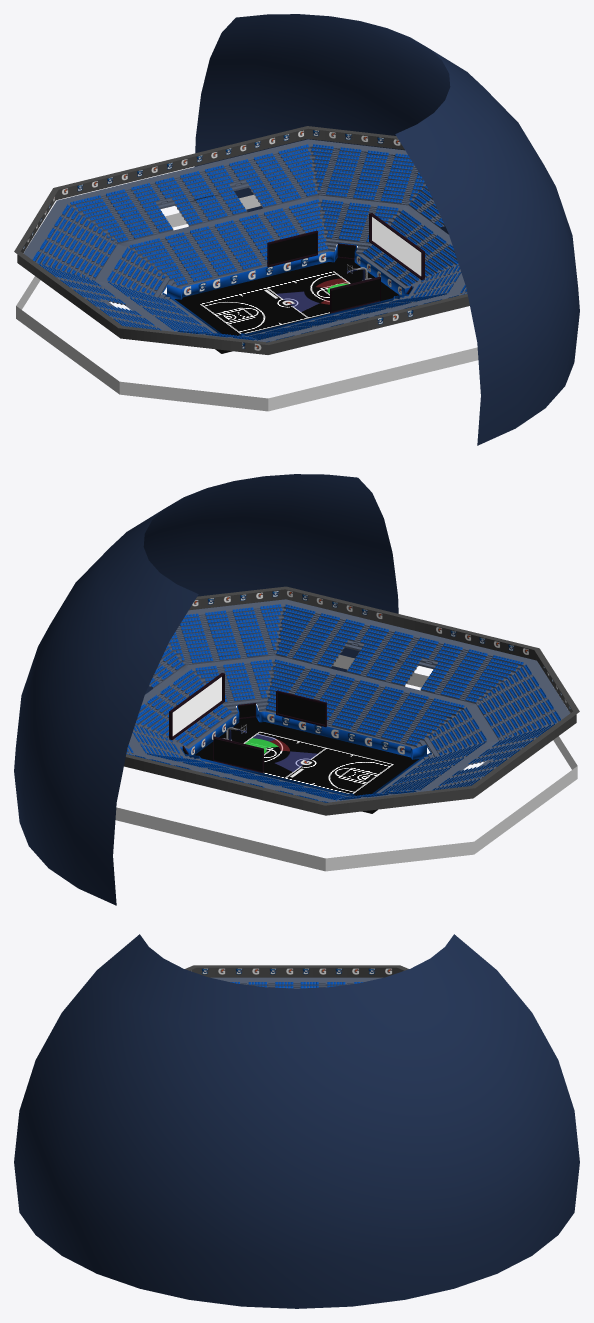
3 views of the same model, one above another, from view 1: azimuth 30°, elevation 25°; view 2: azimuth 150°, elevation 25°; view 3: azimuth 270°, elevation 25° (orthographic).
Visible parts, largest first — view 1: Sphere, steps, seats, upper_wall, field, glass, lower_wall, screen_count, screen_5, screen_4, MAIN_Wall_LED; view 2: Sphere, steps, seats, upper_wall, field, glass, lower_wall, screen_count, screen_4, screen_5, MAIN_Wall_LED; view 3: Sphere, upper_wall, steps.
Boxes of the visible parts, x1=… form: Sphere: x1=194, y1=14, x2=579, y2=445; steps: x1=23, y1=139, x2=467, y2=341; seats: x1=32, y1=144, x2=467, y2=342; upper_wall: x1=14, y1=126, x2=469, y2=354; field: x1=175, y1=258, x2=399, y2=353; glass: x1=16, y1=195, x2=478, y2=411; lower_wall: x1=162, y1=243, x2=413, y2=336; screen_count: x1=372, y1=217, x2=421, y2=275; screen_5: x1=331, y1=279, x2=379, y2=311; screen_4: x1=269, y1=233, x2=316, y2=264; MAIN_Wall_LED: x1=369, y1=213, x2=424, y2=280; Sphere: x1=14, y1=474, x2=398, y2=905; steps: x1=126, y1=599, x2=570, y2=802; seats: x1=126, y1=604, x2=560, y2=802; upper_wall: x1=124, y1=586, x2=579, y2=815; field: x1=194, y1=717, x2=418, y2=813; glass: x1=115, y1=655, x2=577, y2=871; lower_wall: x1=180, y1=704, x2=431, y2=796; screen_count: x1=172, y1=677, x2=221, y2=735; screen_4: x1=214, y1=738, x2=262, y2=771; screen_5: x1=277, y1=693, x2=325, y2=724; MAIN_Wall_LED: x1=169, y1=673, x2=224, y2=739; Sphere: x1=14, y1=934, x2=579, y2=1308; upper_wall: x1=185, y1=965, x2=408, y2=977; steps: x1=211, y1=977, x2=382, y2=988.
Bounding box in the file's own units: 95.52 × 52.27 × 99.88.
43 materials, 16 textured.
